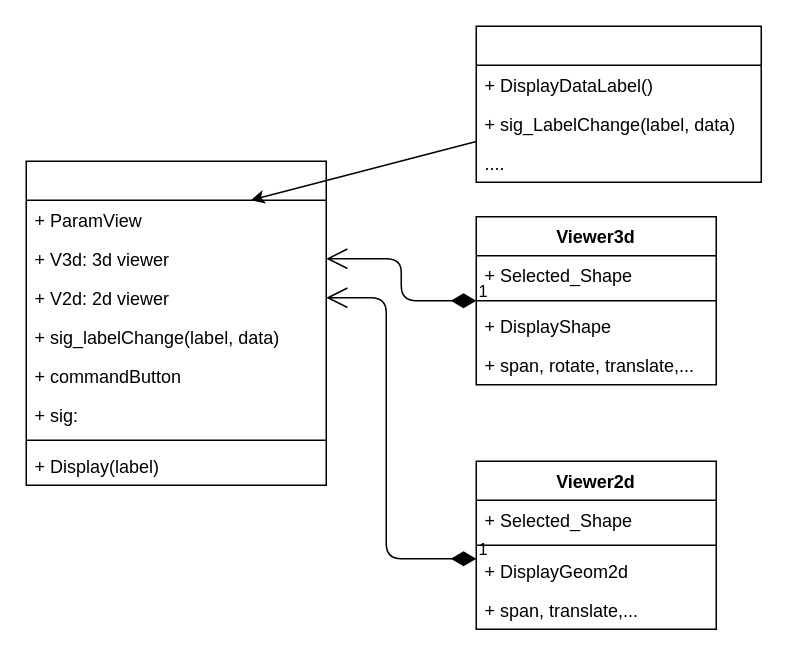
The diagram is 788 pixels wide and 660 high, and some of its shapes have lost their labels. Here are the shapes that lost their labels. From the top down, the box of each, then its label:
(475, 25, 761, 182): ParamVIewer
(25, 160, 326, 485): LabelView
